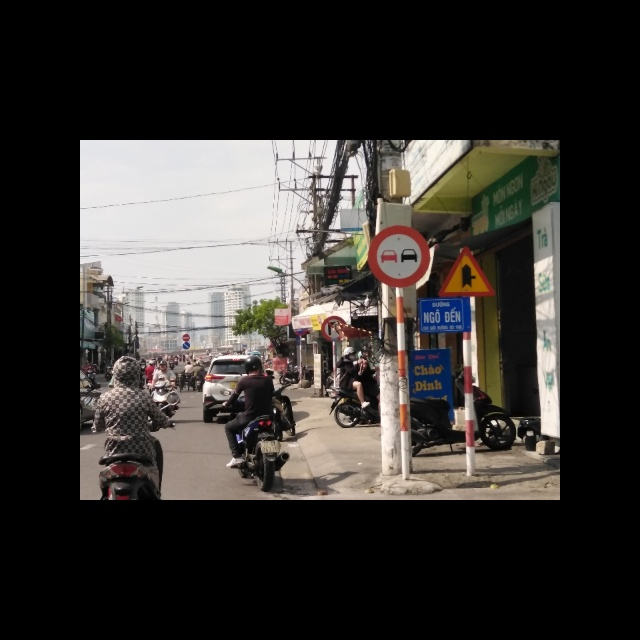Cấm vượt: (368, 225, 430, 287)
Giao nhau với đường không ưu tiên: (438, 245, 495, 298)
